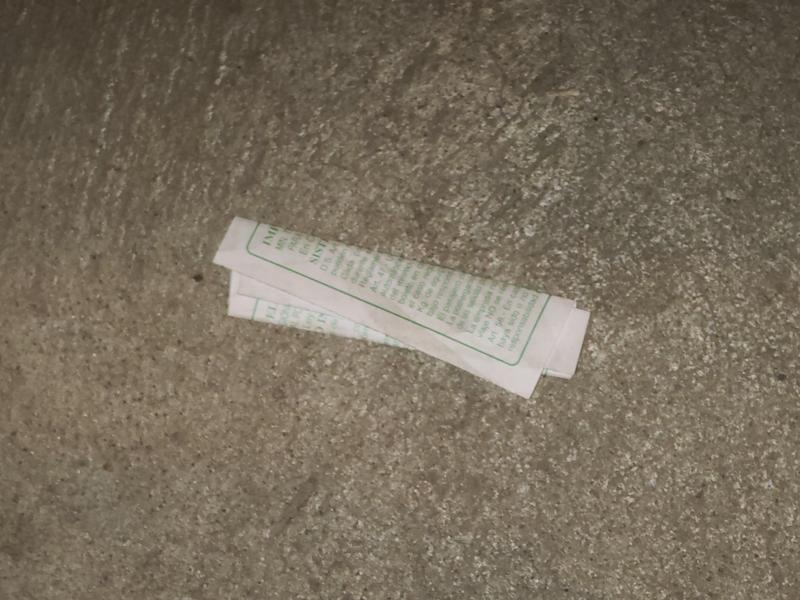papel: (213, 218, 592, 400)
